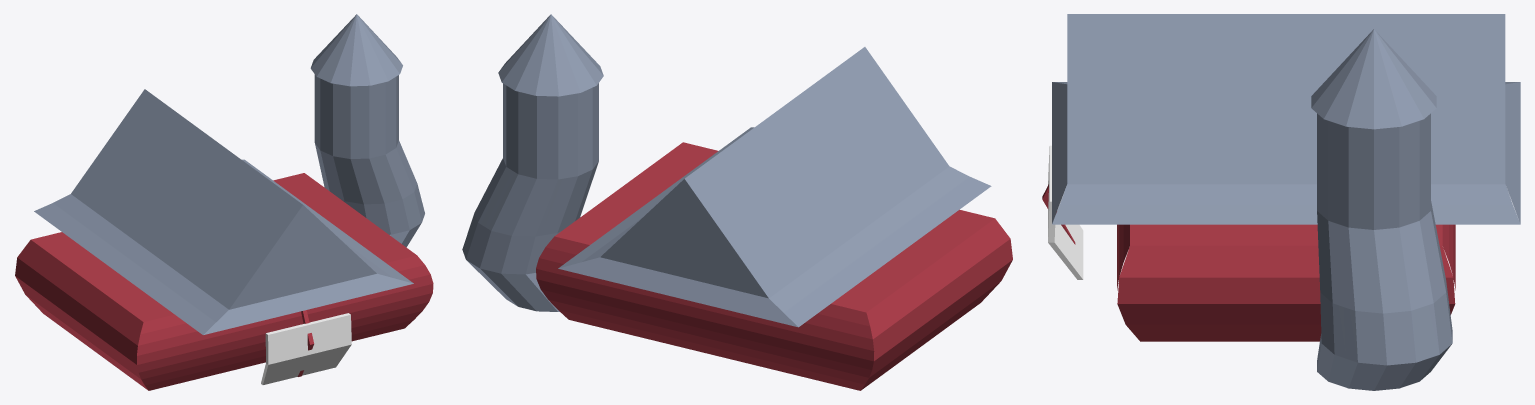
Rendered from barn.glb.
The picture shows the model from 3 angles, left to right: view 1: azimuth 30°, elevation 25°; view 2: azimuth 150°, elevation 25°; view 3: azimuth 270°, elevation 25°; orthographic projection. The views are drawn at different scales.
Visible parts, largest first — view 1: barn_metal, barn_barn_red, barn_white; view 2: barn_metal, barn_barn_red; view 3: barn_metal, barn_barn_red, barn_white.
Part boxes in pixels (x1,y1,x2,y2): barn_metal: [34, 14, 424, 334]; barn_barn_red: [15, 173, 433, 390]; barn_white: [261, 313, 351, 384]; barn_metal: [462, 14, 991, 327]; barn_barn_red: [536, 142, 1012, 390]; barn_metal: [1052, 14, 1520, 390]; barn_barn_red: [1042, 184, 1455, 341]; barn_white: [1048, 145, 1083, 279].
Size of the model in its own units: 21.59 by 13.25 by 17.02.
